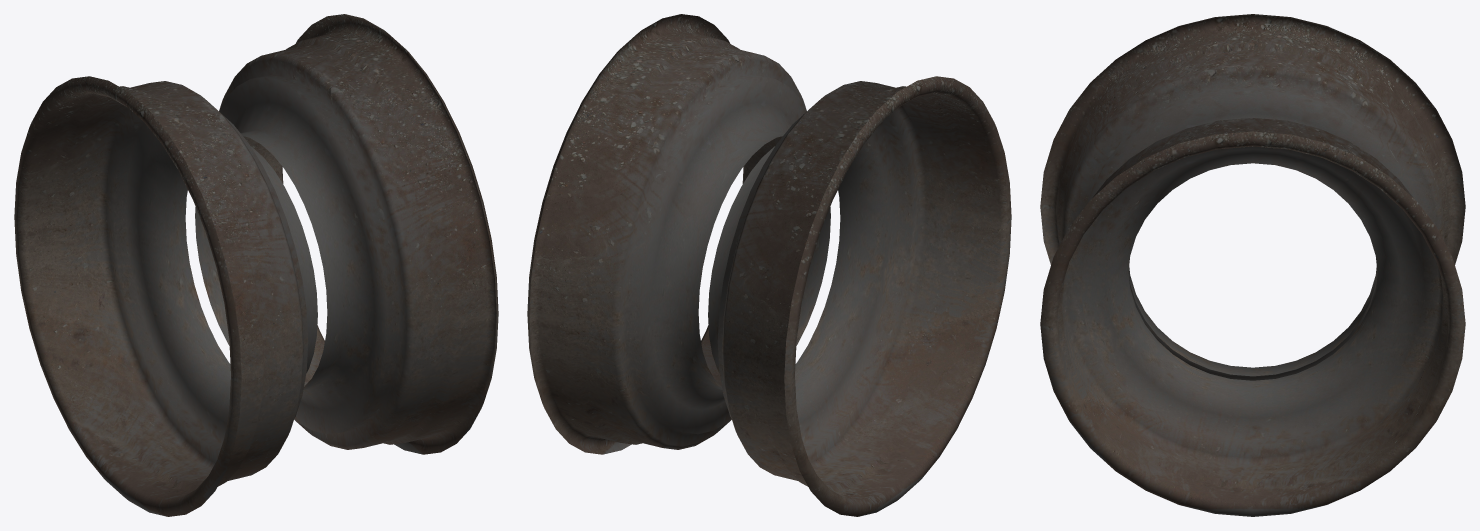
The model's file is RearRim_Outer.gltf.
3 renders of one model, left to right at view 1: azimuth 30°, elevation 25°; view 2: azimuth 150°, elevation 25°; view 3: azimuth 270°, elevation 25°, orthographic. The views are drawn at different scales.
Visible parts, largest first — view 1: AM115_026_71; view 2: AM115_026_71; view 3: AM115_026_71.
Boxes of the visible parts, x1,y1,x2,y2 form: AM115_026_71: (14, 14, 498, 516); AM115_026_71: (527, 14, 1011, 516); AM115_026_71: (1040, 14, 1465, 516).
Size of the model in its own units: 0.694 by 1.03 by 1.03.
1 material, 1 textured.
